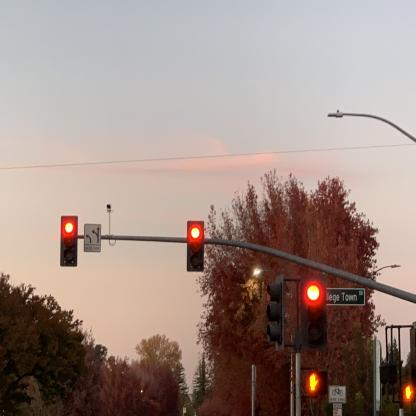left-red: (60, 216, 78, 265)
red: (298, 277, 331, 352), (186, 219, 205, 271)
